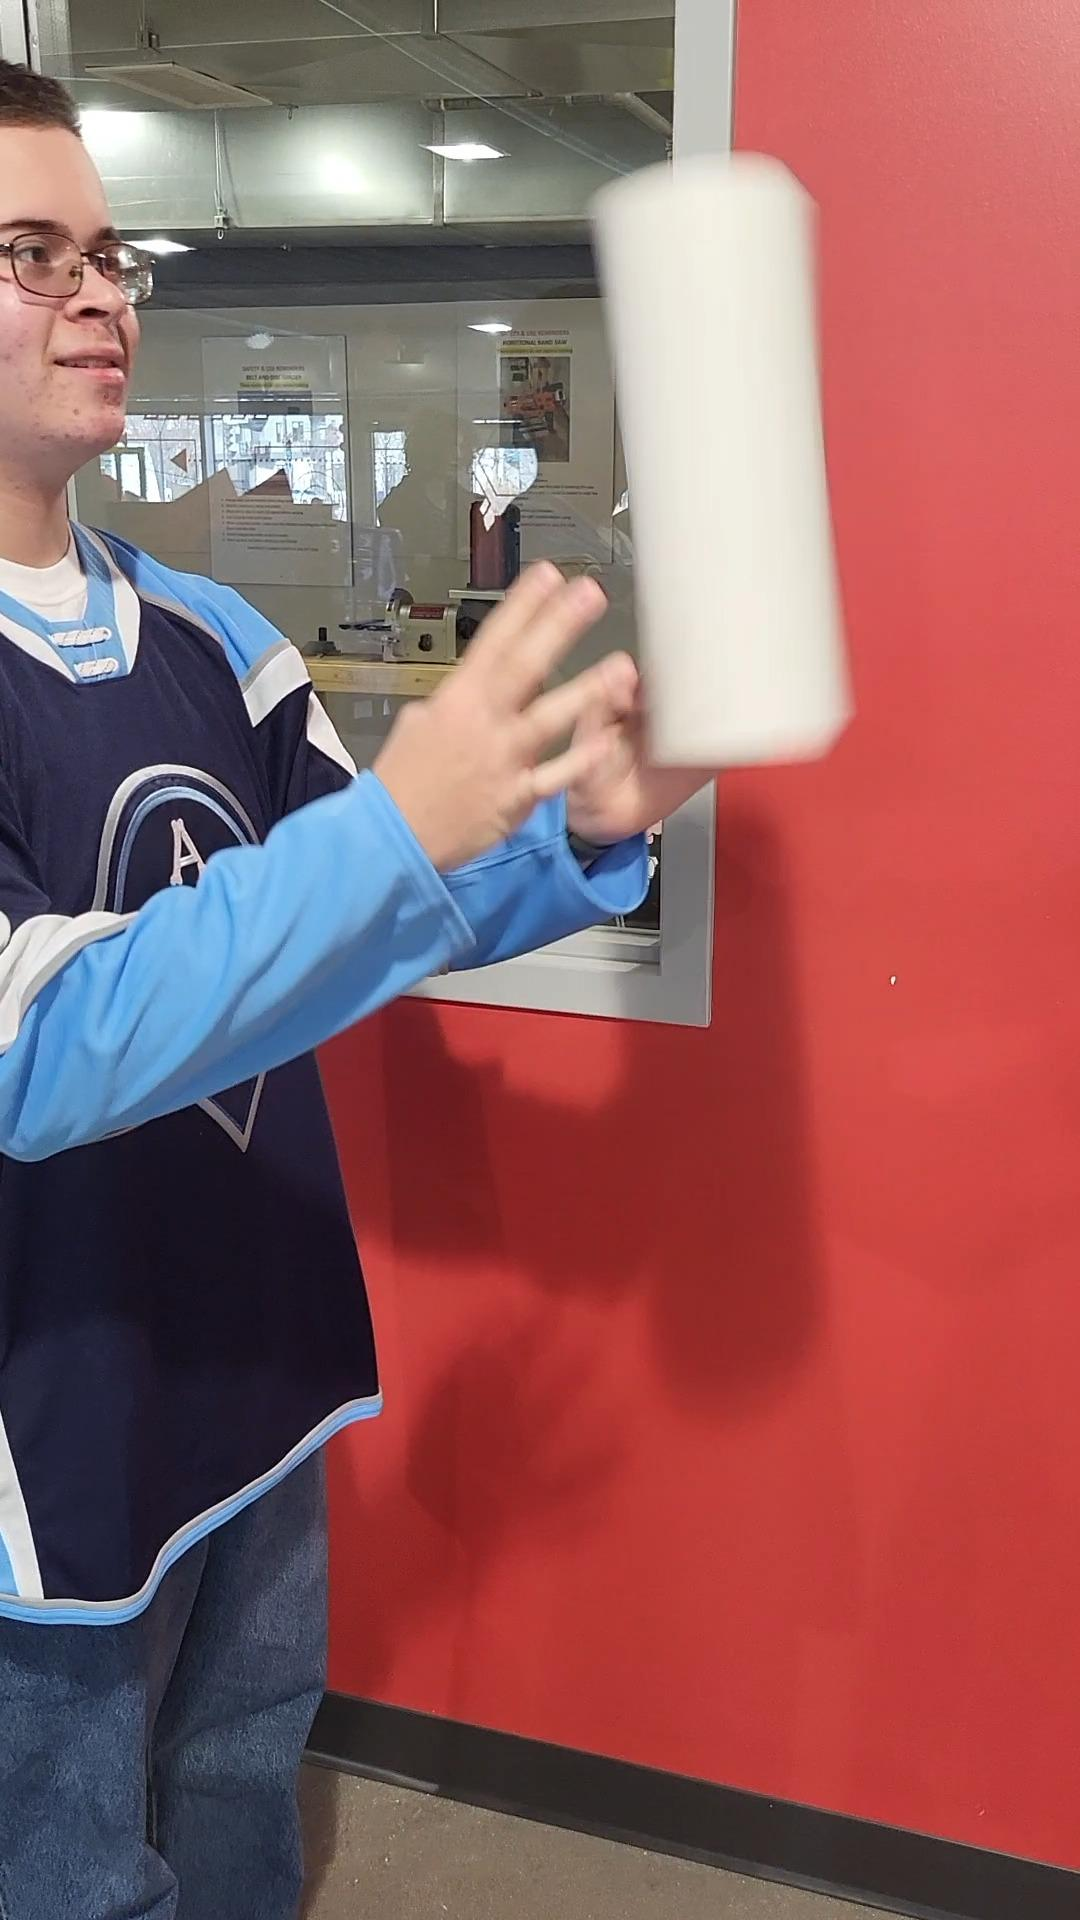coral: (587, 154, 857, 773)
